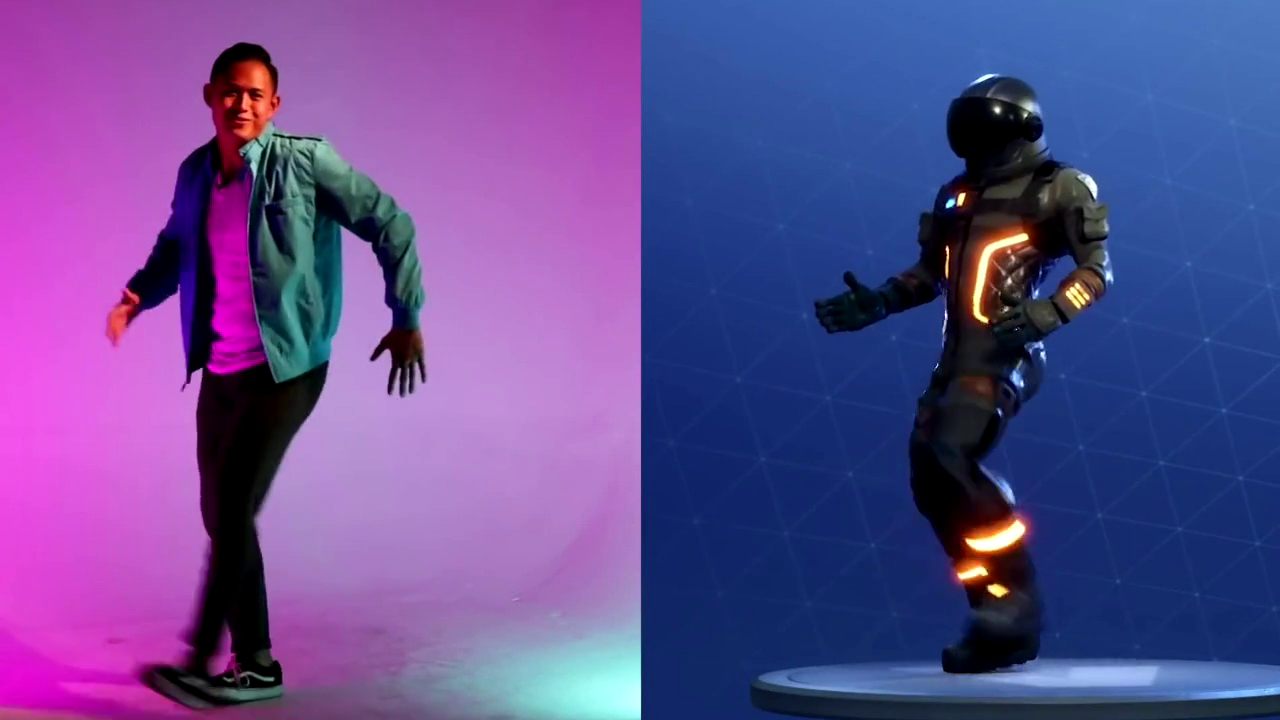Head: (194, 34, 283, 152)
Hip: (168, 341, 352, 421)
LeftAnkle: (134, 646, 239, 715)
LeftElbow: (332, 188, 439, 262)
LeftKnee: (191, 468, 287, 546)
LeftShoulder: (266, 123, 362, 210)
LeftWrist: (360, 307, 450, 400)
RightAnkle: (221, 657, 296, 704)
RightShoulder: (168, 140, 244, 204)
RightWrist: (85, 268, 160, 354)
Torso: (174, 143, 335, 370)
